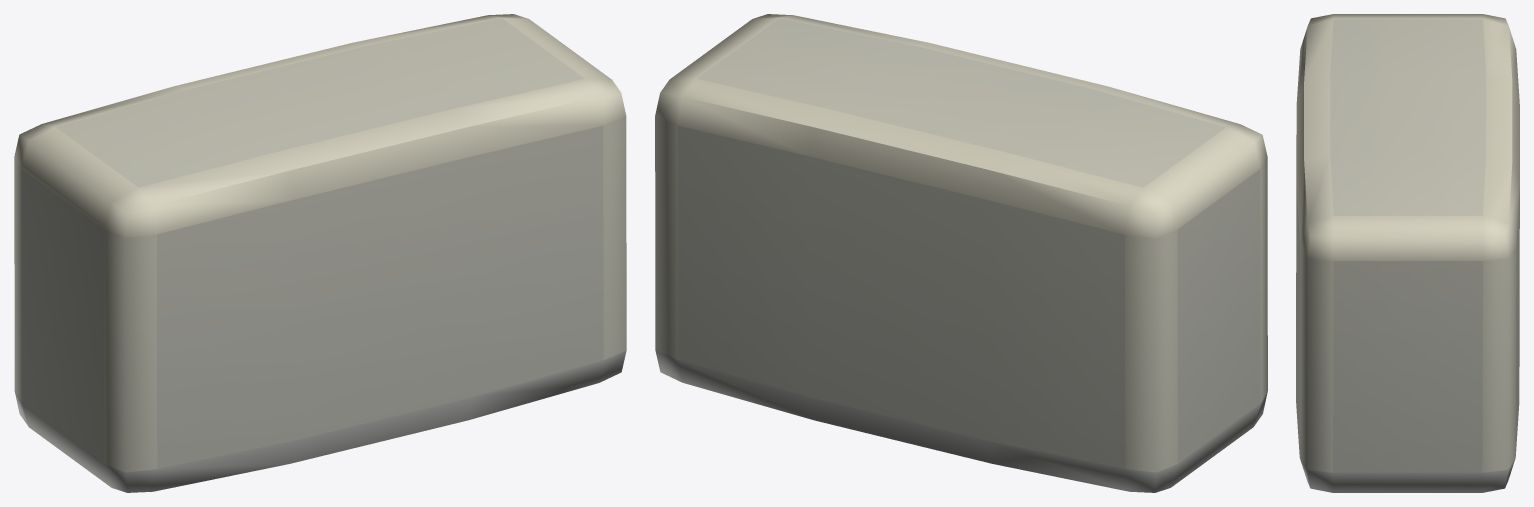
Rendered from curb_stone1_2_LOD_setup.fbx.
3 views of the same model, side by side, from view 1: azimuth 30°, elevation 25°; view 2: azimuth 150°, elevation 25°; view 3: azimuth 270°, elevation 25° (orthographic). The views are drawn at different scales.
Visible parts, largest first — view 1: curb_stone1_2_LOD0; view 2: curb_stone1_2_LOD0; view 3: curb_stone1_2_LOD0.
Boxes of the visible parts, box(x1,y1,x2,y2) form: curb_stone1_2_LOD0: box(14, 14, 626, 492); curb_stone1_2_LOD0: box(655, 14, 1267, 492); curb_stone1_2_LOD0: box(1296, 14, 1519, 492).
Size of what is drawn, in the model's own units: 106 by 60.54 by 44.12.
